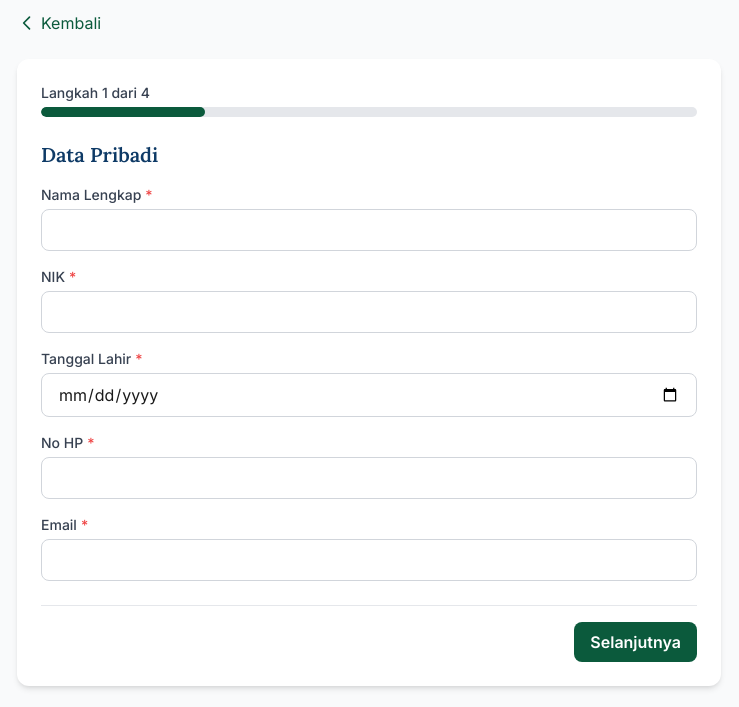
Test case: EnrollmentPage › Step 2: Data Alamat › goes back to step 1 when "Sebelumnya" is clicked
The image size is (739, 707).
Type "John Doe" into the field labelled "Nama Lengkap*".
click(369, 230); type("John Doe")  # box [41, 209, 697, 251]
Type "1234567890123456" into the field labelled "NIK*".
click(369, 312); type("1234567890123456")  # box [41, 291, 697, 333]
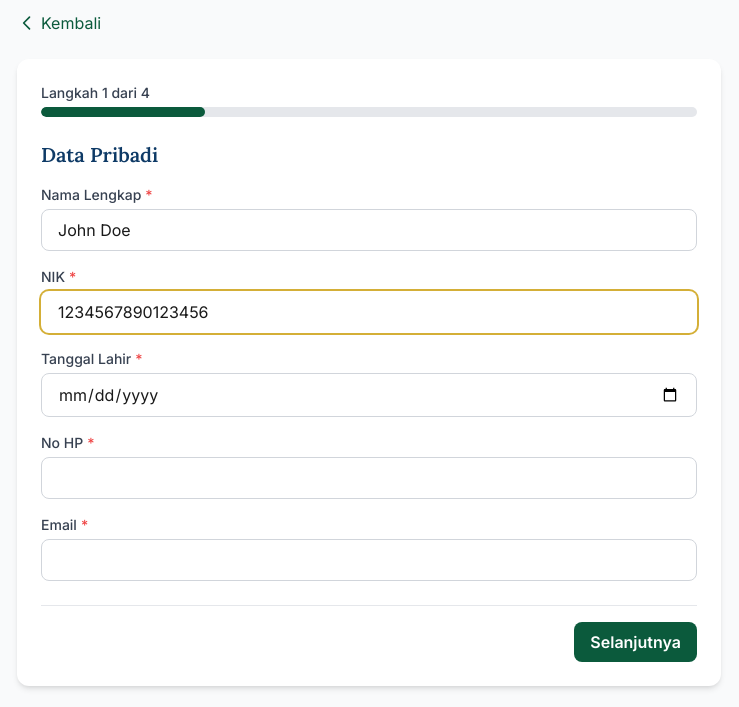
Type "1990-01-01" into the date field labelled "Tanggal Lahir*".
click(369, 395); type("1990-01-01")  # box [41, 373, 697, 417]
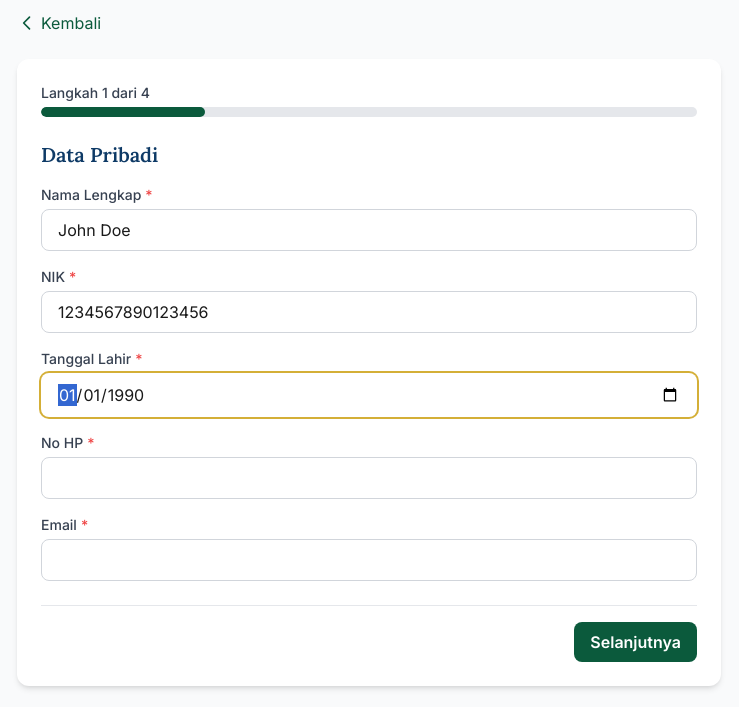
Type "081234567890" into the field labelled "No HP*".
click(369, 478); type("081234567890")  # box [41, 457, 697, 499]
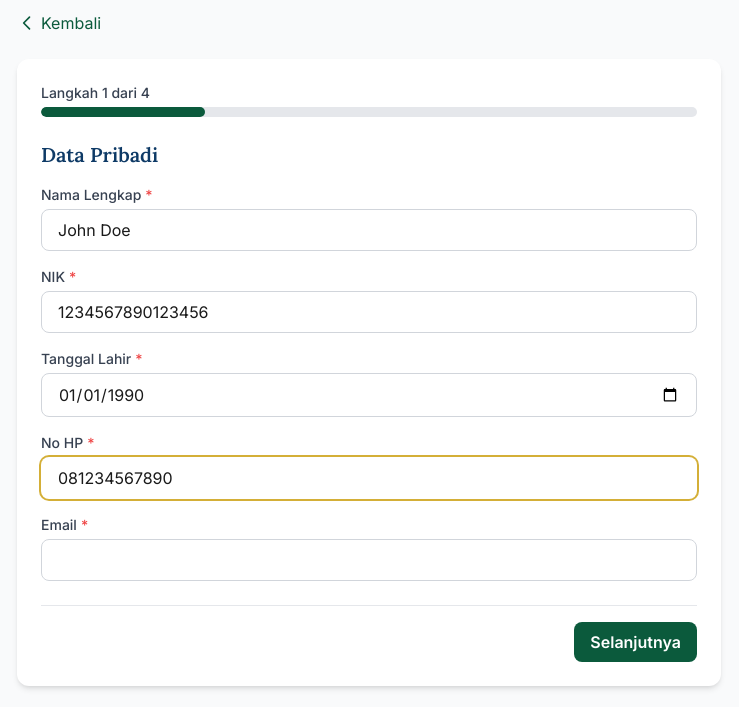
Type "john@test.com" into the field labelled "Email*".
click(369, 560); type("john@test.com")  # box [41, 539, 697, 581]
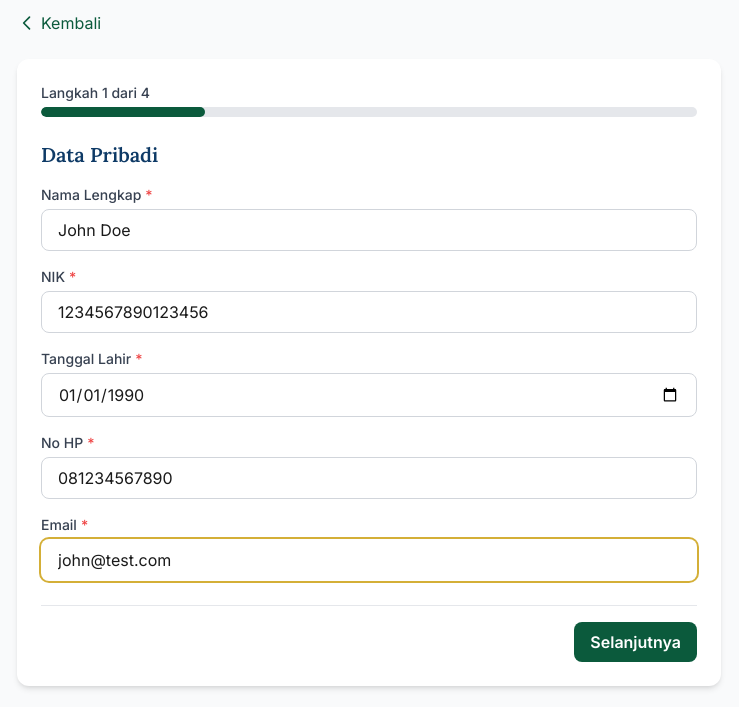
Click the button "Selanjutnya".
click(636, 642)  # box [574, 622, 697, 662]
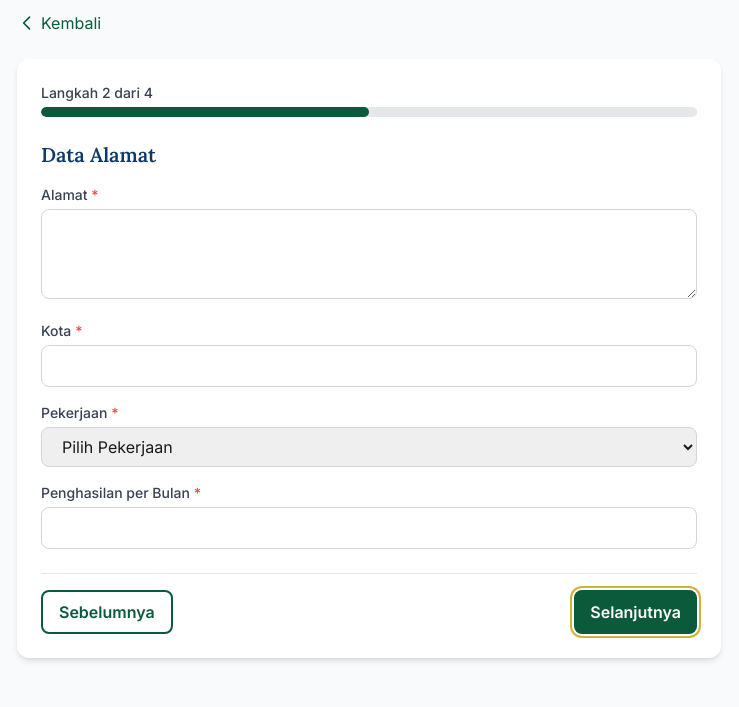
Click the button "Sebelumnya".
click(107, 612)  # box [41, 590, 173, 634]
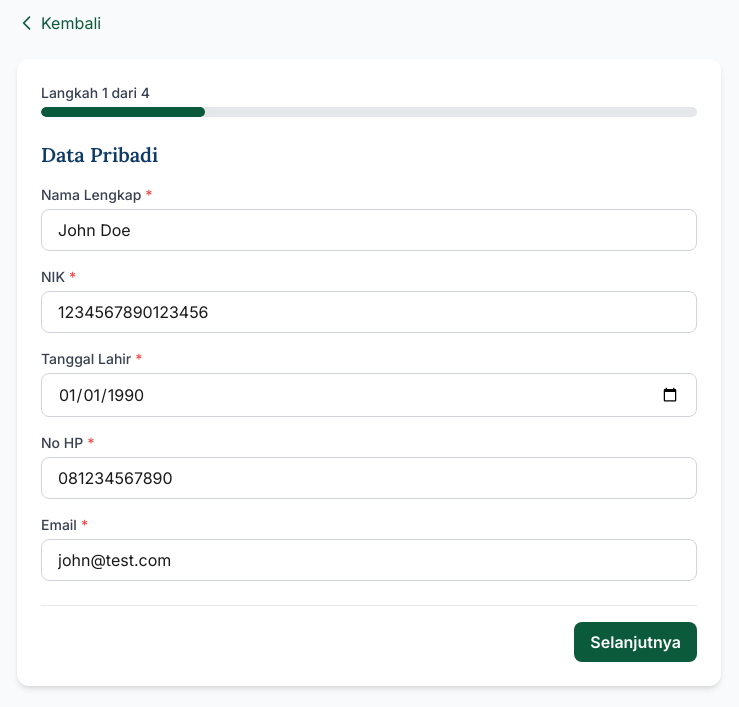
Check: the heading "Data Pribadi" is shown, box [41, 142, 158, 167]
